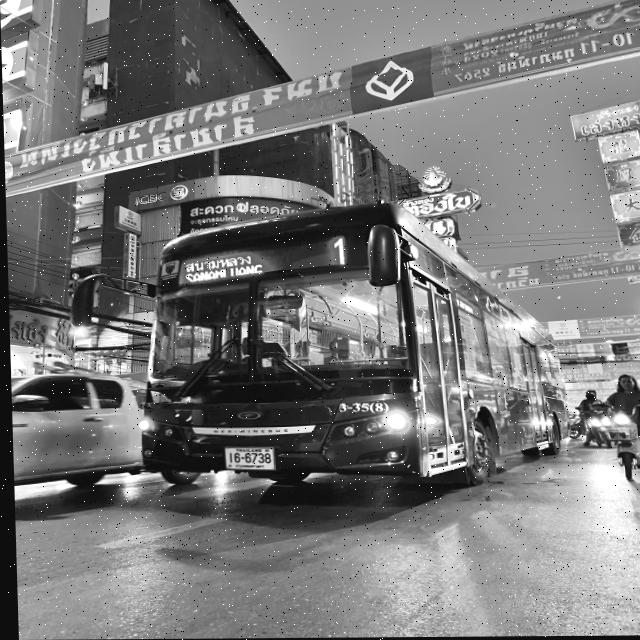Bus Line Number: (307, 226, 366, 280)
Bus Side Number: (333, 397, 387, 418)
Destination Sign: (175, 253, 270, 283)
TSB-Bus: (139, 204, 564, 489)
